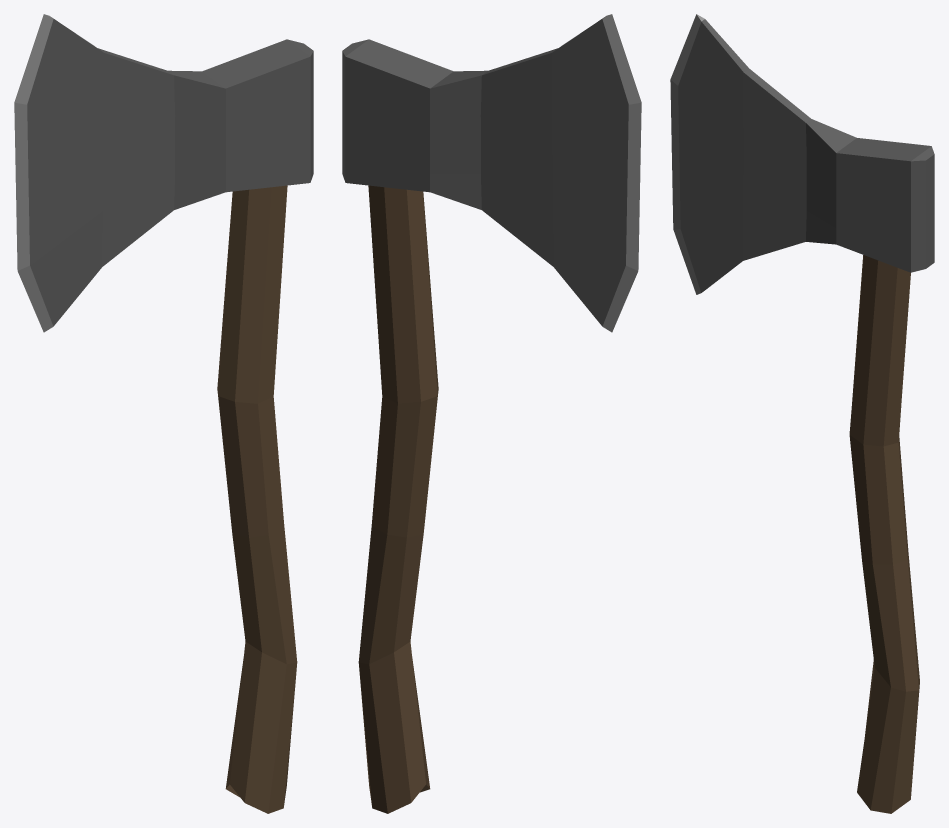
The model's file is axe_small.glb.
3 renders of one model, left to right at view 1: azimuth 30°, elevation 25°; view 2: azimuth 150°, elevation 25°; view 3: azimuth 330°, elevation 25°, orthographic. The views are drawn at different scales.
Visible parts, largest first — view 1: Axe_Small; view 2: Axe_Small; view 3: Axe_Small.
Boxes of the visible parts, bbox=[...] form: Axe_Small: bbox=[14, 14, 313, 813]; Axe_Small: bbox=[342, 14, 641, 813]; Axe_Small: bbox=[670, 14, 934, 813].
Size of the model in its own units: 0.9 by 2.46 by 0.1423.
